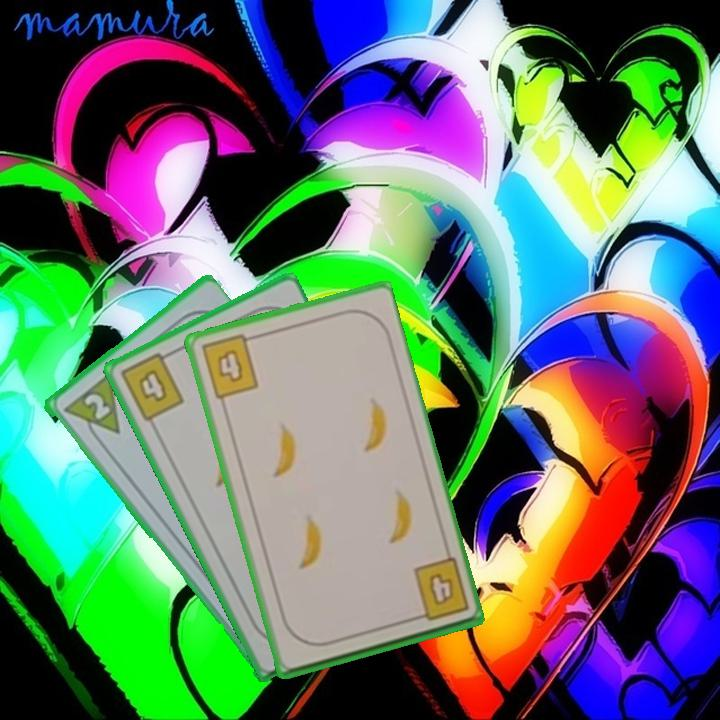2p: (79, 389, 113, 423)
4b: (116, 347, 187, 424), (407, 554, 472, 624), (197, 331, 261, 402)
